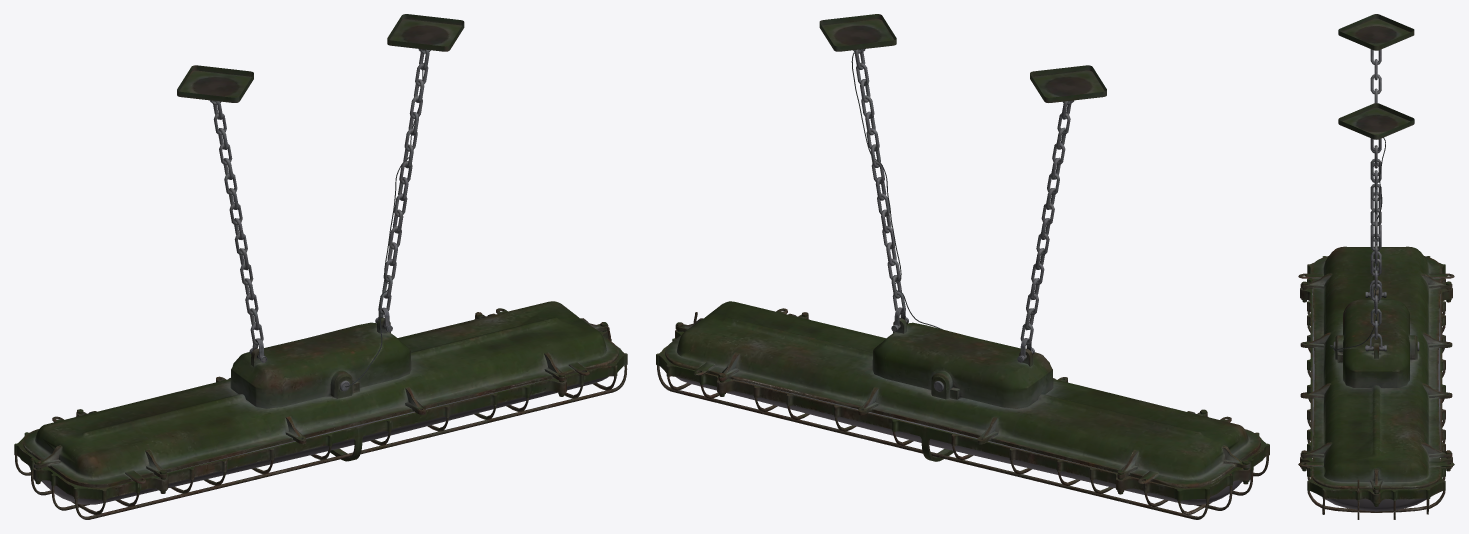
Rendered from caged_hanging_light.optimized.glb.
3 renders of one model, left to right at view 1: azimuth 30°, elevation 25°; view 2: azimuth 150°, elevation 25°; view 3: azimuth 270°, elevation 25°, orthographic. The views are drawn at different scales.
Parts seen in each view (by area): view 1: caged_hanging_light; view 2: caged_hanging_light; view 3: caged_hanging_light.
Part boxes in pixels (bbox=[...]): caged_hanging_light: bbox=[14, 14, 627, 519]; caged_hanging_light: bbox=[656, 14, 1269, 519]; caged_hanging_light: bbox=[1298, 14, 1454, 519].
Bounding box in the file's own units: 1.16 × 0.7501 × 0.3149.
Materials: 1 (1 with a texture image).
